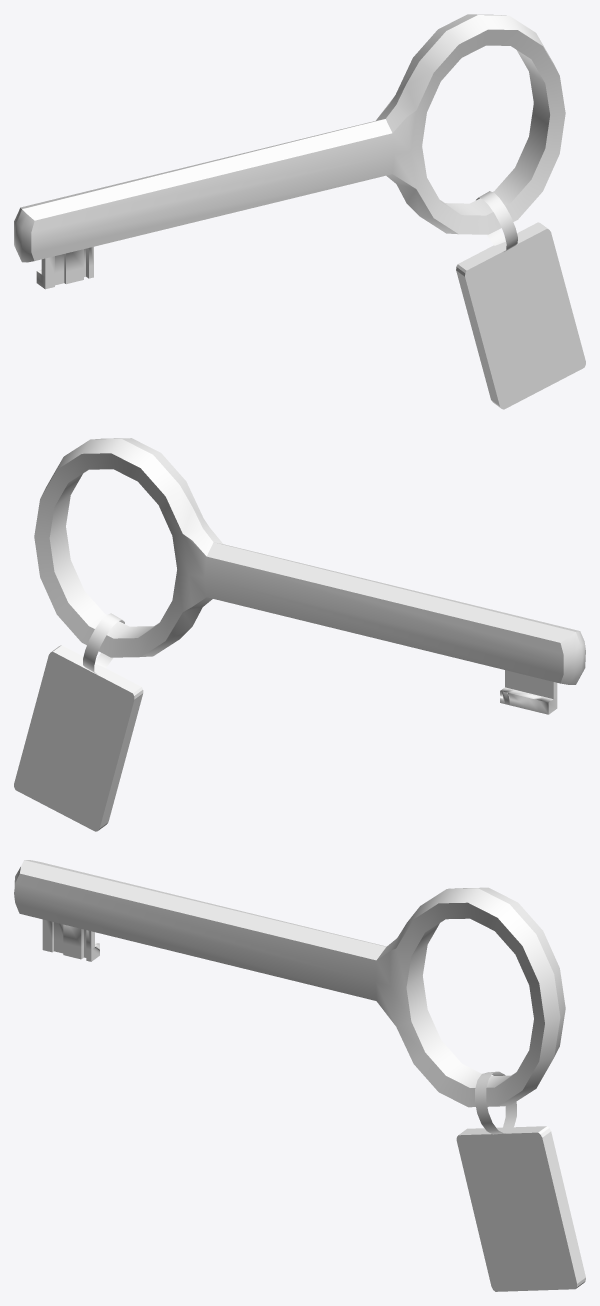
File: KeyWNote.fbx
3 renders of one model, top to bottom at view 1: azimuth 30°, elevation 25°; view 2: azimuth 150°, elevation 25°; view 3: azimuth 330°, elevation 25°, orthographic.
Visible parts, largest first — view 1: Cylinder; view 2: Cylinder; view 3: Cylinder.
Part boxes in pixels (bbox=[...]): Cylinder: bbox=[14, 14, 585, 409]; Cylinder: bbox=[14, 438, 585, 831]; Cylinder: bbox=[14, 860, 585, 1291].
Bounding box in the file's own units: 271 × 181 × 21.95.
